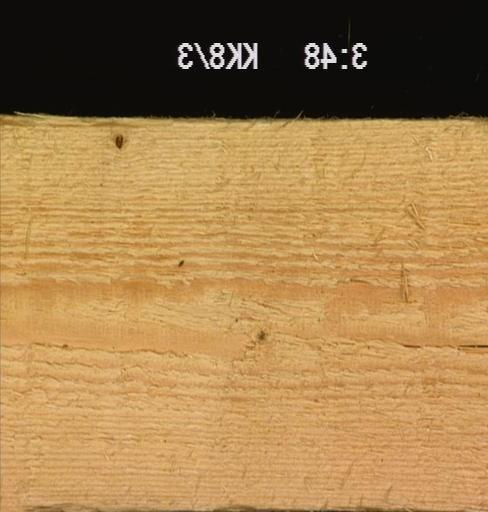dry_knot: (112, 129, 126, 151)
small_knot: (251, 324, 270, 345)
split: (391, 336, 486, 351)
wave: (0, 112, 300, 122), (17, 501, 278, 511)
